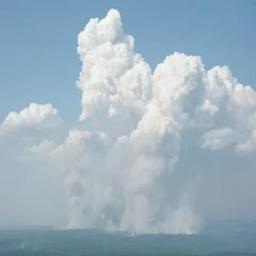Heavy smoke: (64, 186, 204, 239)
